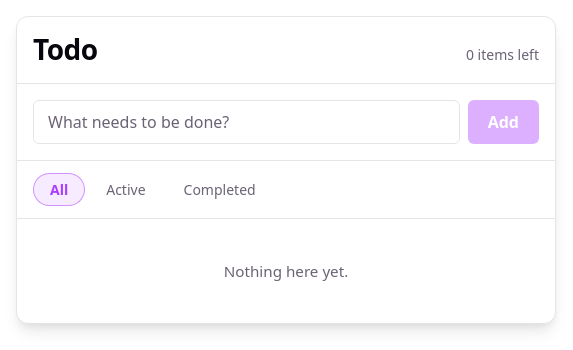
it: App › adds a todo and shows it in the list
This screenshot has width=573, height=350.
Step 1. Type "Buy milk" into the field → (246, 122), box [33,100,460,144]
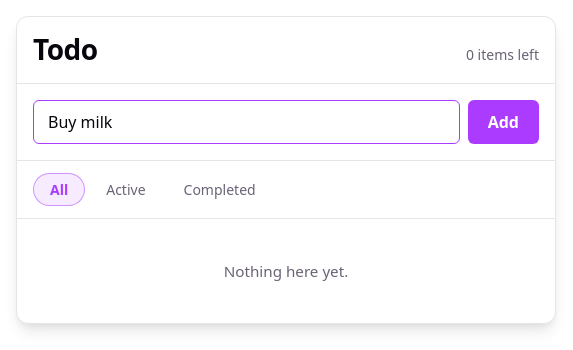
Step 2. Click the button "Add" → (503, 122), box [468,100,539,144]
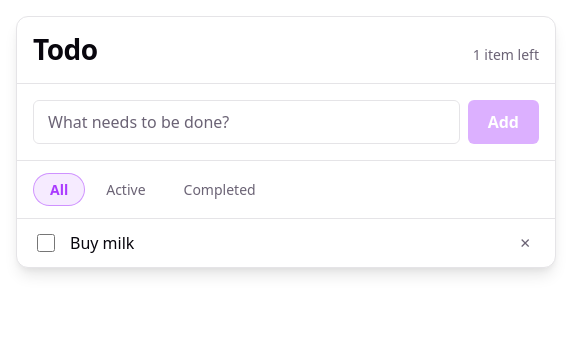
expect the text "Buy milk" is shown: met, box [70,231,134,255]
